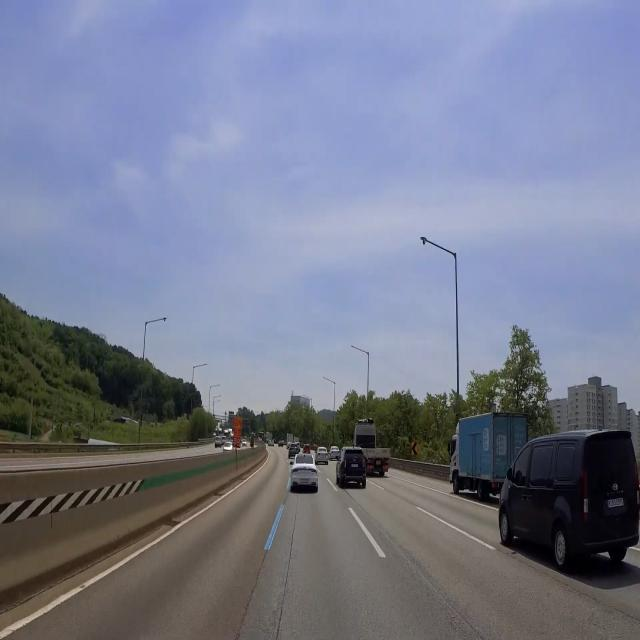car: (603, 494, 627, 511), (374, 455, 383, 471), (298, 474, 310, 485), (350, 459, 360, 471)
